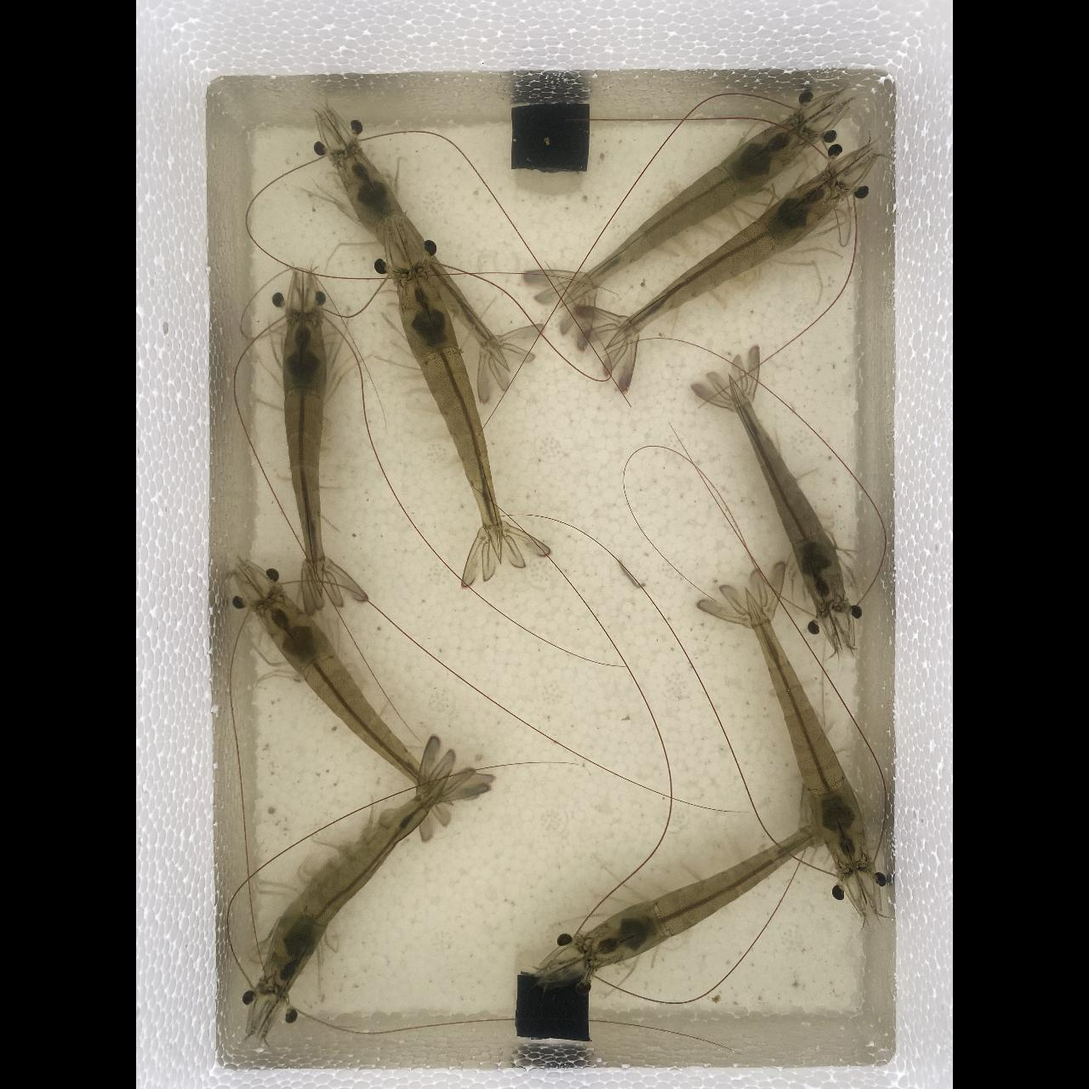box: (512, 102, 589, 168), (517, 978, 589, 1040)
top_shrimp: (560, 121, 810, 305), (603, 173, 841, 347), (264, 774, 448, 990), (257, 597, 446, 801), (334, 146, 507, 364), (335, 148, 507, 364), (585, 822, 830, 965), (745, 596, 866, 869), (396, 272, 502, 555), (728, 385, 842, 607), (282, 313, 325, 599)
